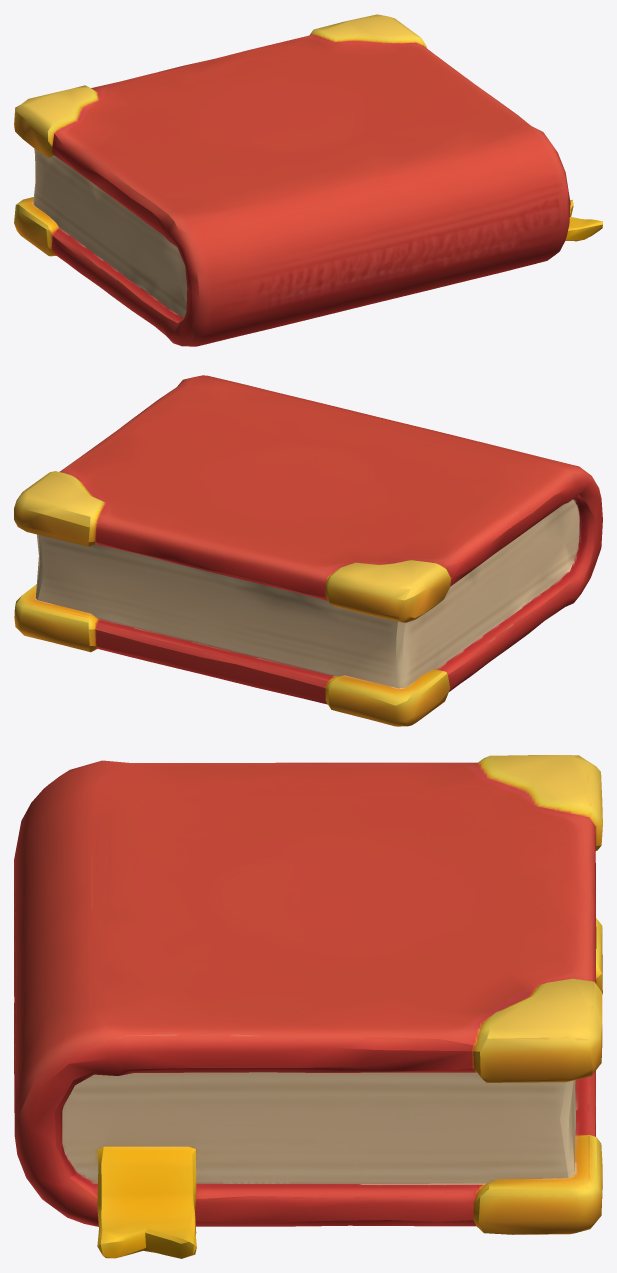
The model's file is TT_BookCoral.glb.
3 views of the same model, one above another, from view 1: azimuth 30°, elevation 25°; view 2: azimuth 150°, elevation 25°; view 3: azimuth 270°, elevation 25° (orthographic). The views are drawn at different scales.
Parts seen in each view (by area): view 1: geometry_0; view 2: geometry_0; view 3: geometry_0.
Part boxes in pixels (box(x1,y1,x2,y2)): geometry_0: box(14, 14, 602, 346); geometry_0: box(14, 375, 602, 726); geometry_0: box(14, 755, 602, 1258).
Bounding box in the file's own units: 1 × 0.295 × 0.7616.
Materials: 1 (1 with a texture image).
